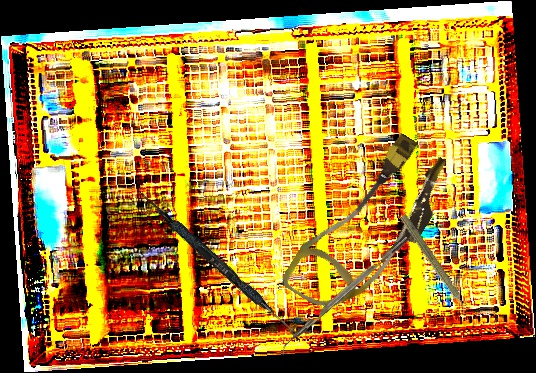Cannula: (278, 119, 462, 334)
Chopper: (275, 235, 415, 358)
Handpiece: (395, 212, 474, 318)
Spatula Surgical: (134, 189, 306, 342)
